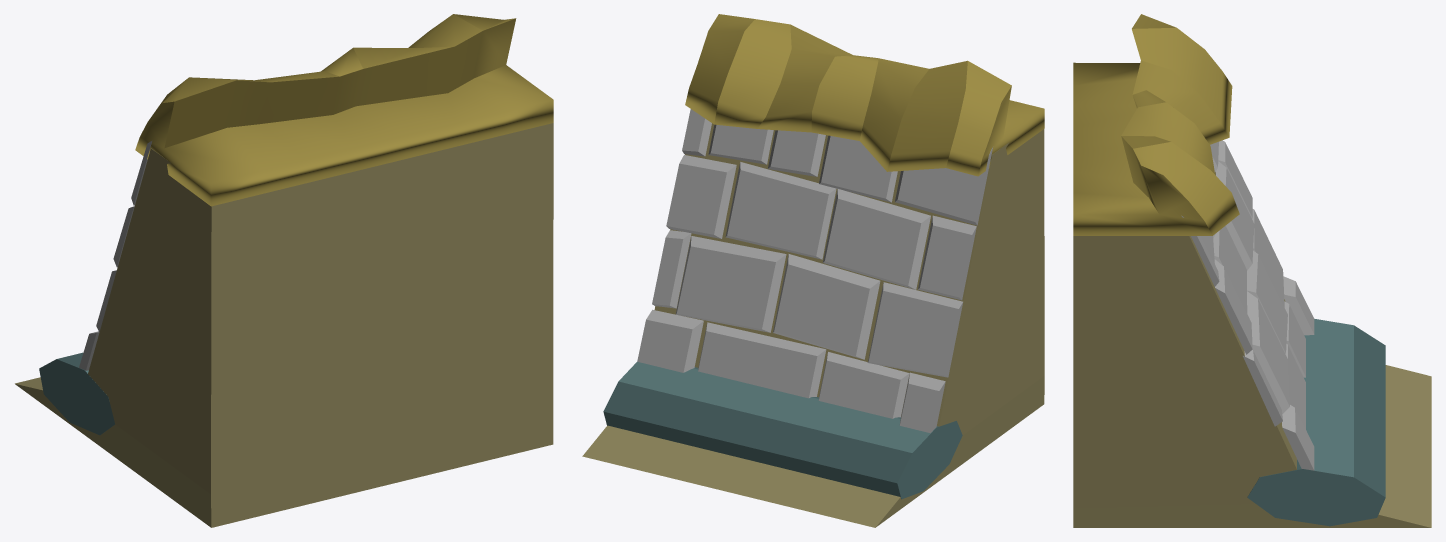
Rendered from Int 2 B.fbx.
The picture shows the model from 3 angles, left to right: view 1: azimuth 30°, elevation 25°; view 2: azimuth 150°, elevation 25°; view 3: azimuth 270°, elevation 25°; orthographic projection. The views are drawn at different scales.
Parts seen in each view (by area): view 1: polySurface2; view 2: polySurface2; view 3: polySurface2.
Boxes of the visible parts, x1,y1,x2,y2 form: polySurface2: (15, 14, 553, 527); polySurface2: (582, 14, 1044, 527); polySurface2: (1073, 14, 1431, 527).
Bounding box in the file's own units: 1 × 1.14 × 0.9964.
